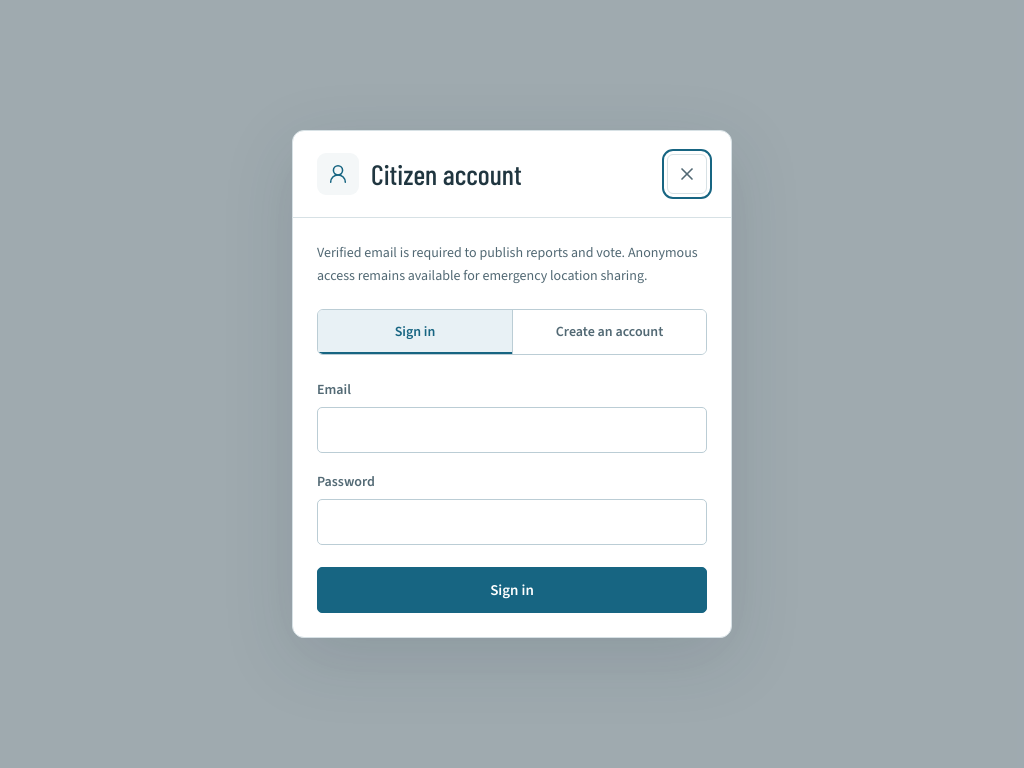
Test: account creation uses labelled fields, a dedicated mode and verification feedback
Expected: the dialog "Citizen account" is shown, left=292, top=130, right=732, bottom=638
Expected: the 1st button "Sign in" is enabled, left=318, top=310, right=512, bottom=354
Click the button "Create an account" at (609, 332), box left=512, top=310, right=706, bottom=354
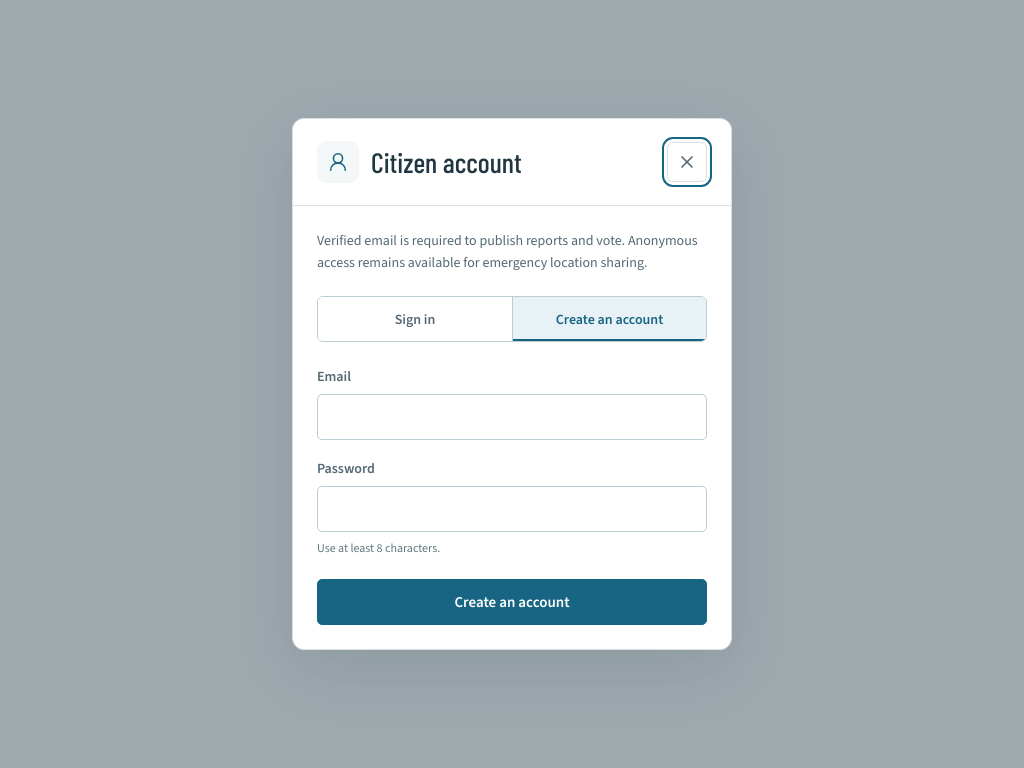
Type "citizen@example.com" into the field labelled "Email" at (512, 417), box left=317, top=394, right=707, bottom=440
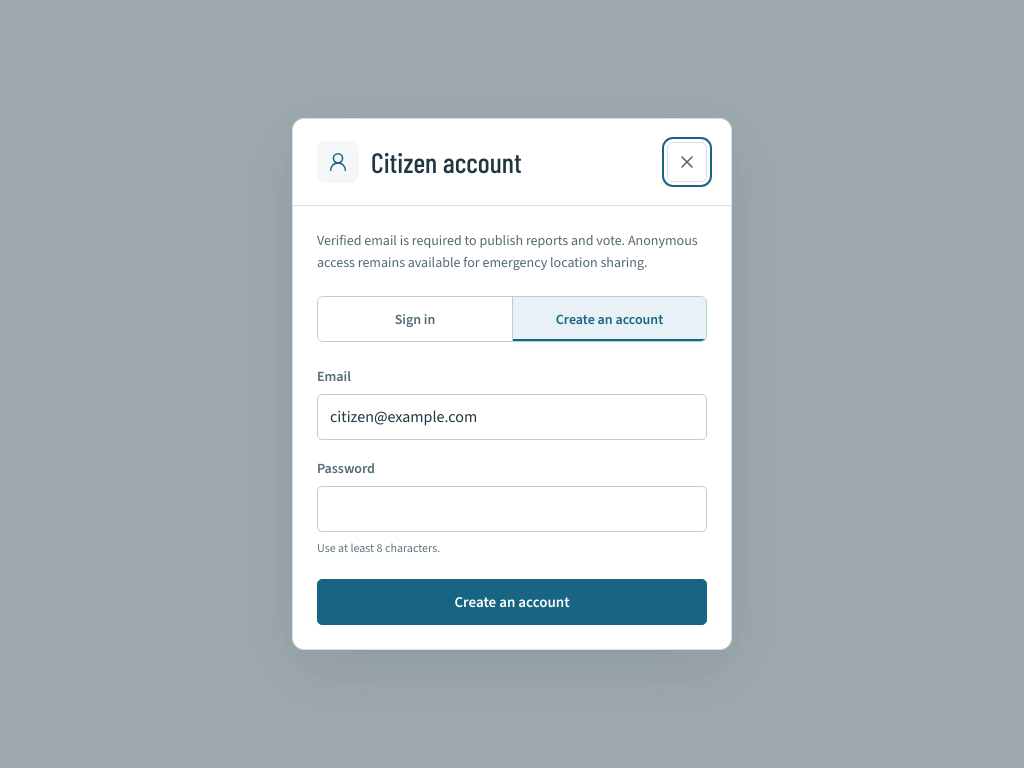
Type "fixture-password" into the password field labelled "Password" at (512, 509), box left=317, top=486, right=707, bottom=532
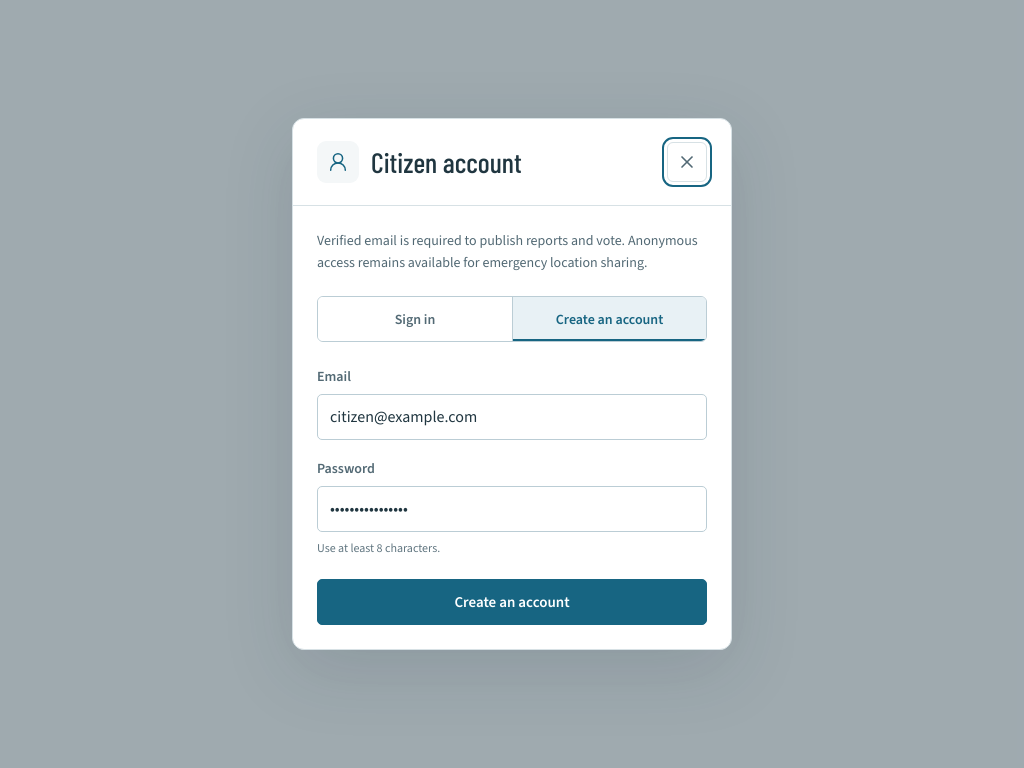
Click the button "Create an account" below "Use at least 8 characters." at (512, 602), box left=317, top=579, right=707, bottom=625
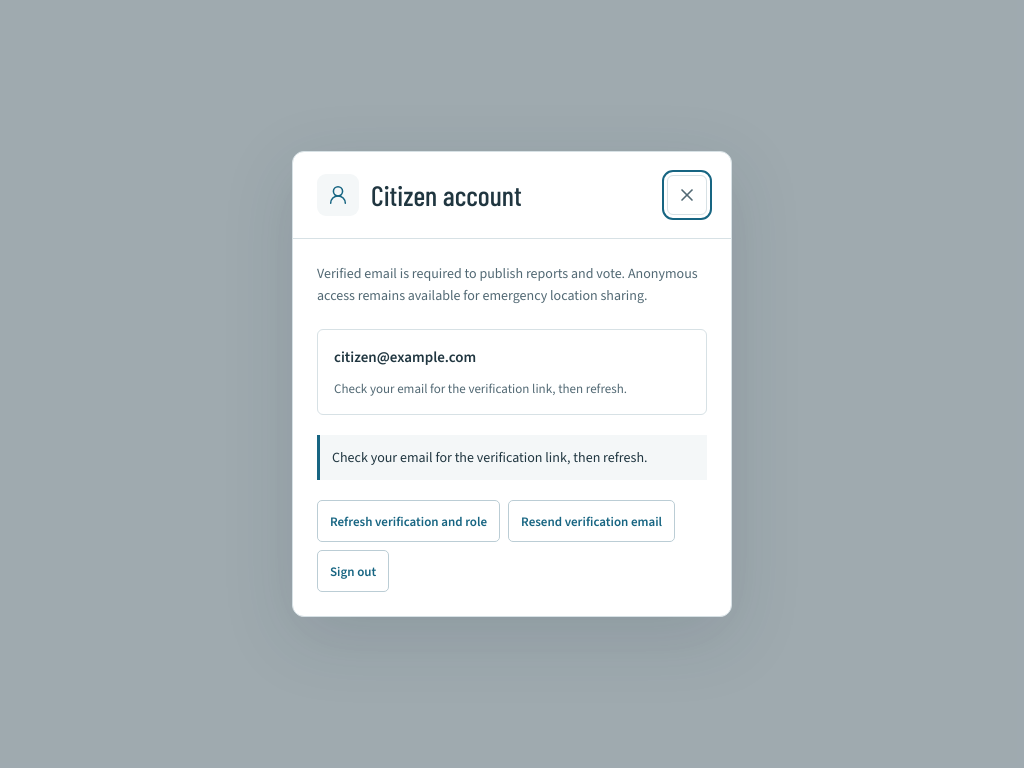
Expected: the button "Resend verification email" is shown, left=508, top=500, right=675, bottom=542
Expected: the label labelled "Password" is gone
